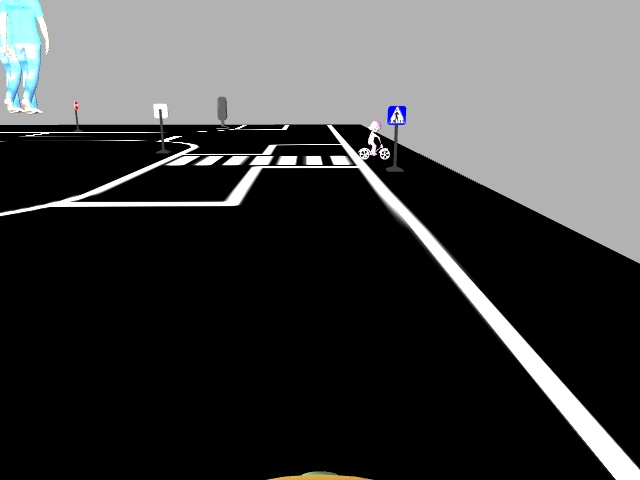Pedestrian: (355, 115, 390, 162)
